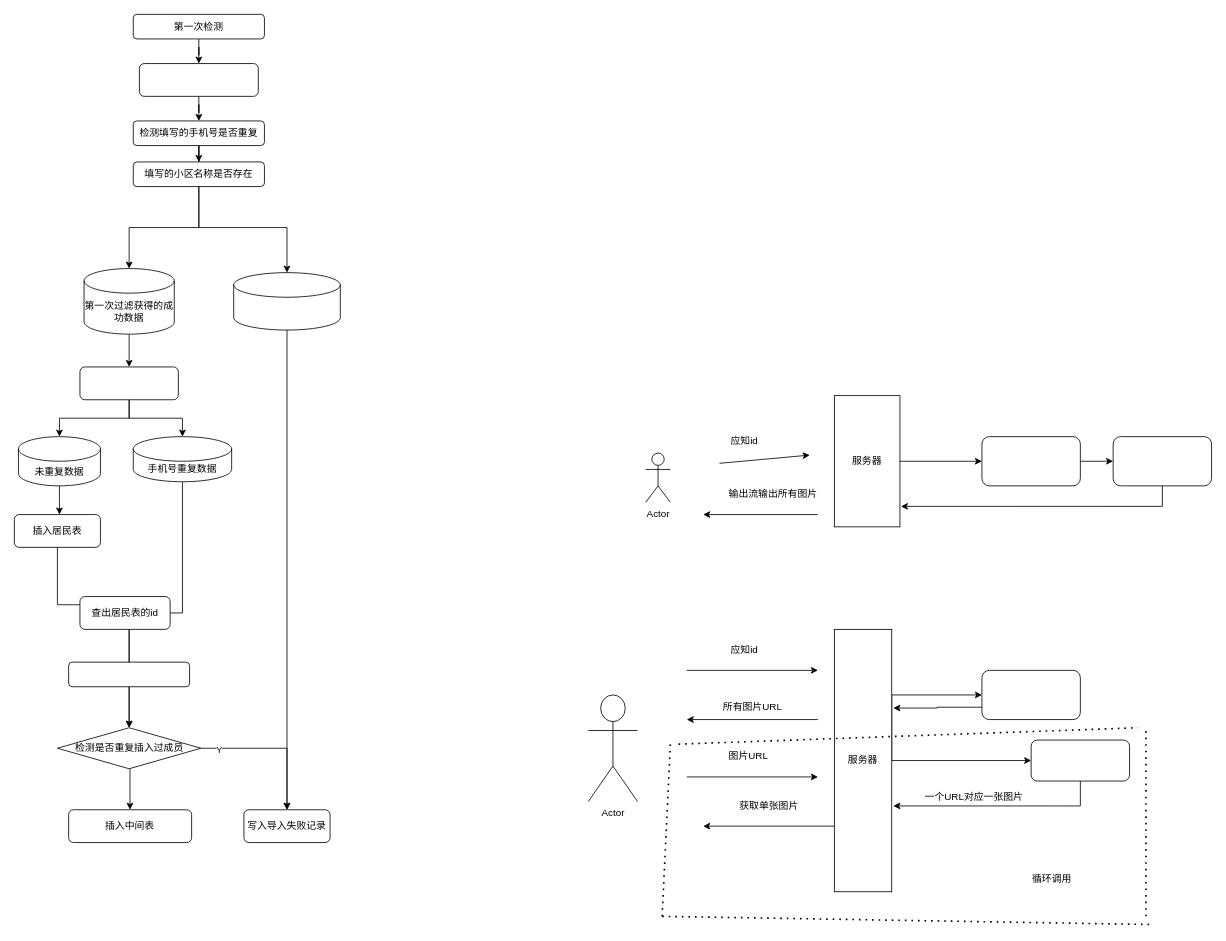
The diagram is 1226 pixels wide and 941 high, and some of its shapes have lost their labels. Each missing label, with the centre of its shape:
"一次获取所有的图片URL地址" belongs at pixel 1030 461.
"公用的图片下载接口" belongs at pixel 1080 760.
"合并所有居民id" belongs at pixel 129 674.
"失败数据" belongs at pixel 286 301.
"必填字段的非空判断" belongs at pixel 198 79.
"检测是否与数据库中的手机号重复" belongs at pixel 128 383.
"获取所有的图片URL" belongs at pixel 1030 695.
"输出流一次输出所有图片" belongs at pixel 1162 461.
